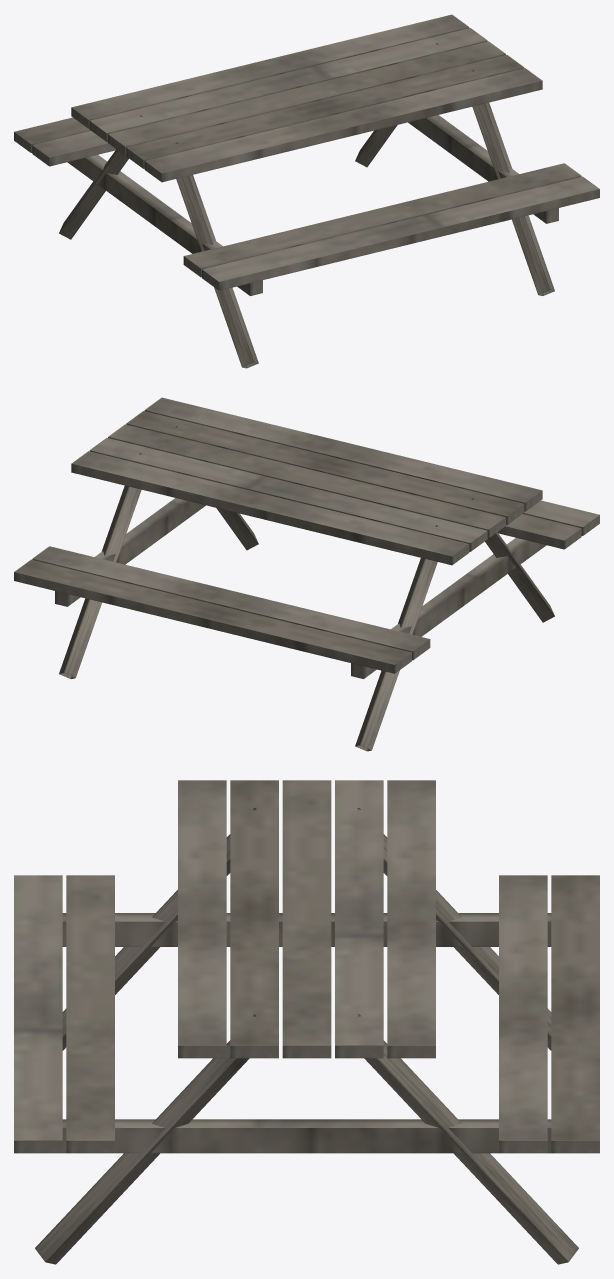
File: picnic_table.obj
3 views of the same model, one above another, from view 1: azimuth 30°, elevation 25°; view 2: azimuth 150°, elevation 25°; view 3: azimuth 270°, elevation 25° (orthographic). The views are drawn at different scales.
Visible parts, largest first — view 1: picnic_table; view 2: picnic_table; view 3: picnic_table.
Part boxes in pixels (<box>): picnic_table: <box>14,14,599,368</box>; picnic_table: <box>14,397,599,751</box>; picnic_table: <box>14,780,599,1264</box>.
Bounding box in the file's own units: 1.8 × 0.7919 × 1.68.
1 material, 1 textured.
